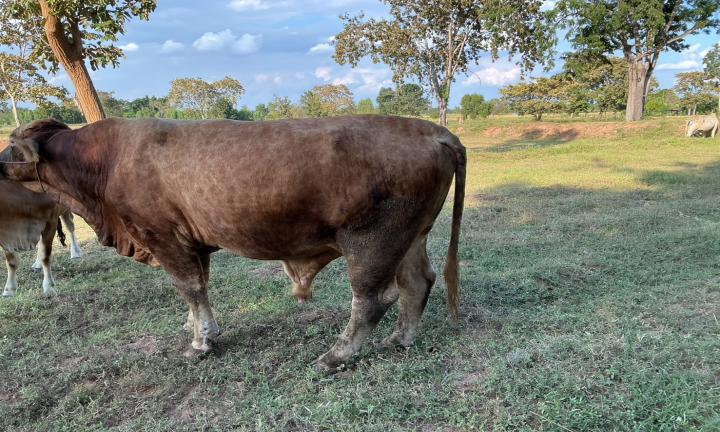Charolais: (0, 115, 465, 368)
